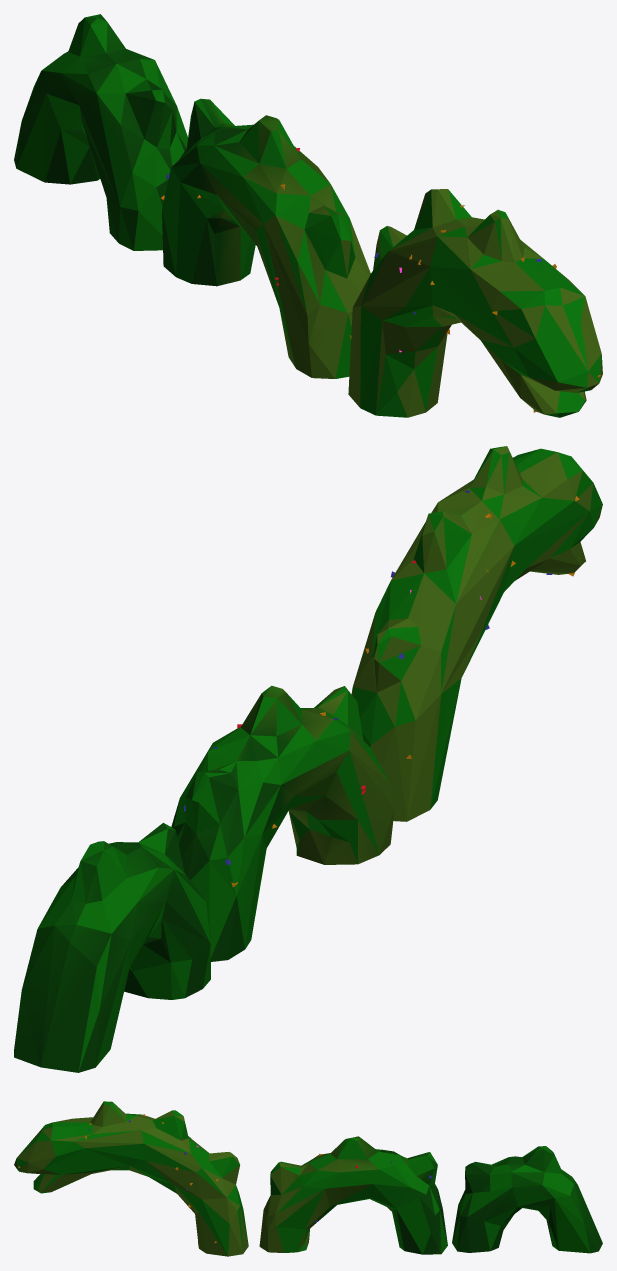
The model's file is HWN20_DragonBush.gltf.
3 views of the same model, one above another, from view 1: azimuth 30°, elevation 25°; view 2: azimuth 150°, elevation 25°; view 3: azimuth 270°, elevation 25° (orthographic). The views are drawn at different scales.
Parts seen in each view (by area): view 1: HWN20_DragonBush_glb; view 2: HWN20_DragonBush_glb; view 3: HWN20_DragonBush_glb.
Boxes of the visible parts, x1=… form: HWN20_DragonBush_glb: x1=14, y1=14, x2=602, y2=417; HWN20_DragonBush_glb: x1=14, y1=446, x2=602, y2=1072; HWN20_DragonBush_glb: x1=14, y1=1101, x2=602, y2=1256.
Size of what is drawn, in the model's own units: 2.01 by 5.31 by 19.57.
Materials: 2 (2 with a texture image).
